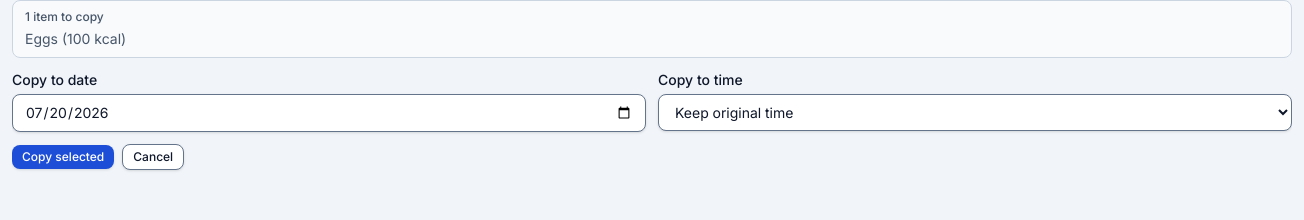
Test: CopyGroupDialog -- Copy to time override › respects the parameterized submitLabel and error-message props (Phase 8b bulk-action reuse)
What coordinates should you click on to do the following:
click the button "Copy selected"
I would click on:
 (63, 157)
Its box is [12,145,114,169].
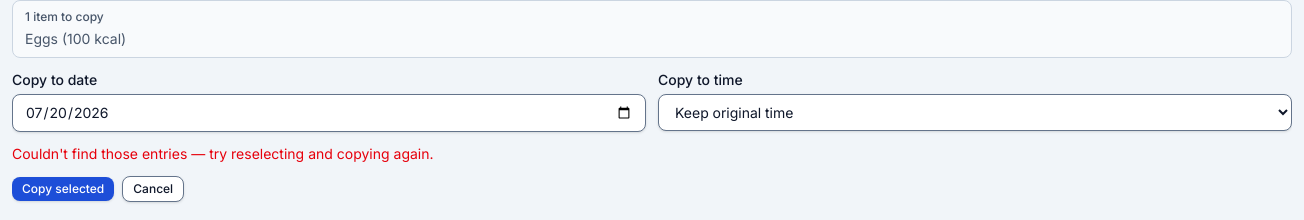
Now the text "Couldn't find those entries — try reselecting and copying again." is shown, box [12,145,434,162]
